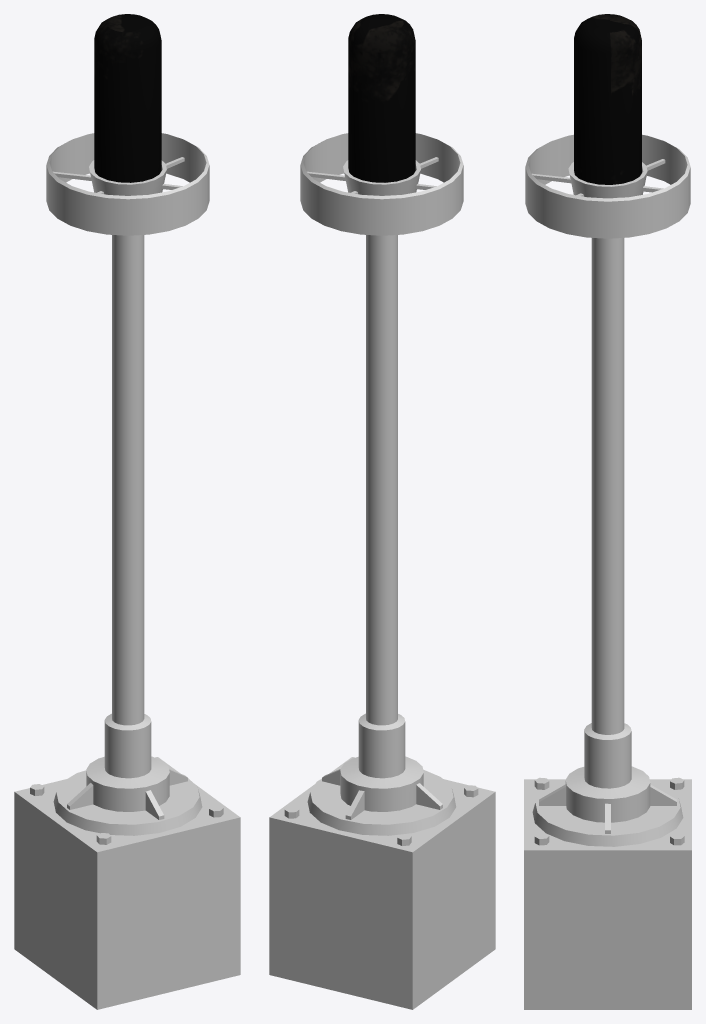
Rendered from KB3D_NSF_PropAntenna_H.fbx.
3 views of the same model, side by side, from view 1: azimuth 30°, elevation 25°; view 2: azimuth 150°, elevation 25°; view 3: azimuth 270°, elevation 25° (orthographic).
Visible parts, largest first — view 1: KB3D_NSF_PropAntenna_H_Main; view 2: KB3D_NSF_PropAntenna_H_Main; view 3: KB3D_NSF_PropAntenna_H_Main.
Boxes of the visible parts, x1=… form: KB3D_NSF_PropAntenna_H_Main: x1=14, y1=14, x2=240, y2=1009; KB3D_NSF_PropAntenna_H_Main: x1=269, y1=14, x2=495, y2=1009; KB3D_NSF_PropAntenna_H_Main: x1=524, y1=14, x2=691, y2=1009.
Size of the model in its own units: 54.66 by 342 by 54.66.
